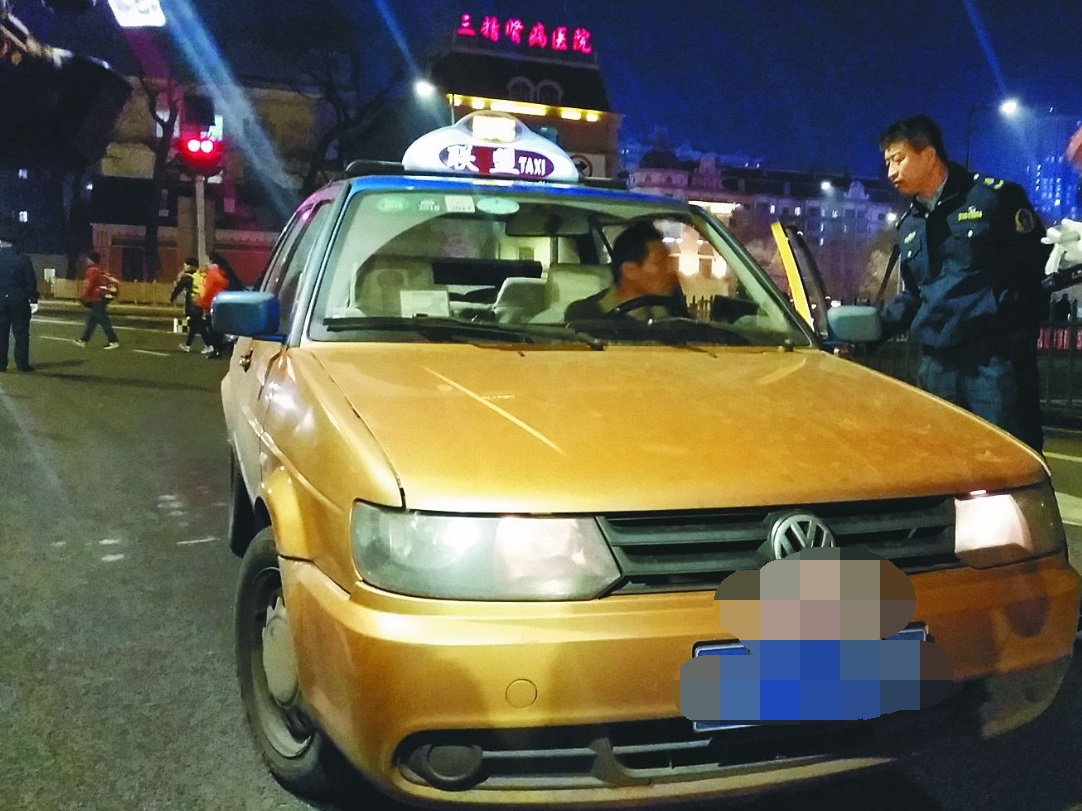taxi: (208, 108, 1082, 811)
